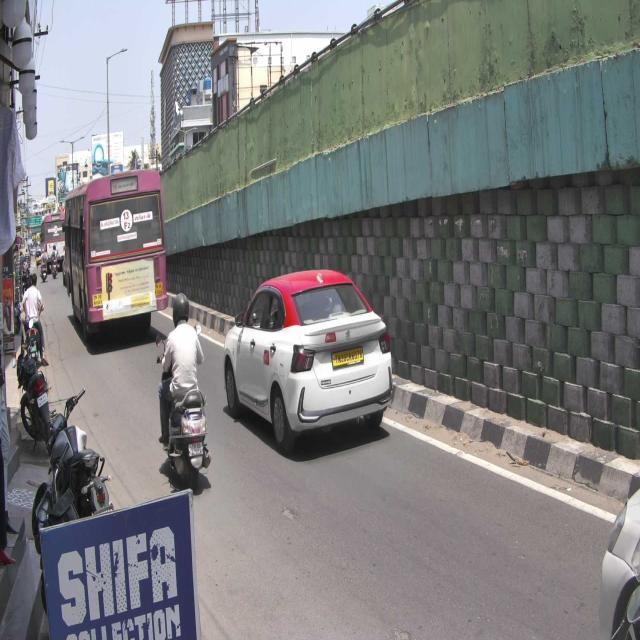single_rider: (155, 290, 212, 489)
